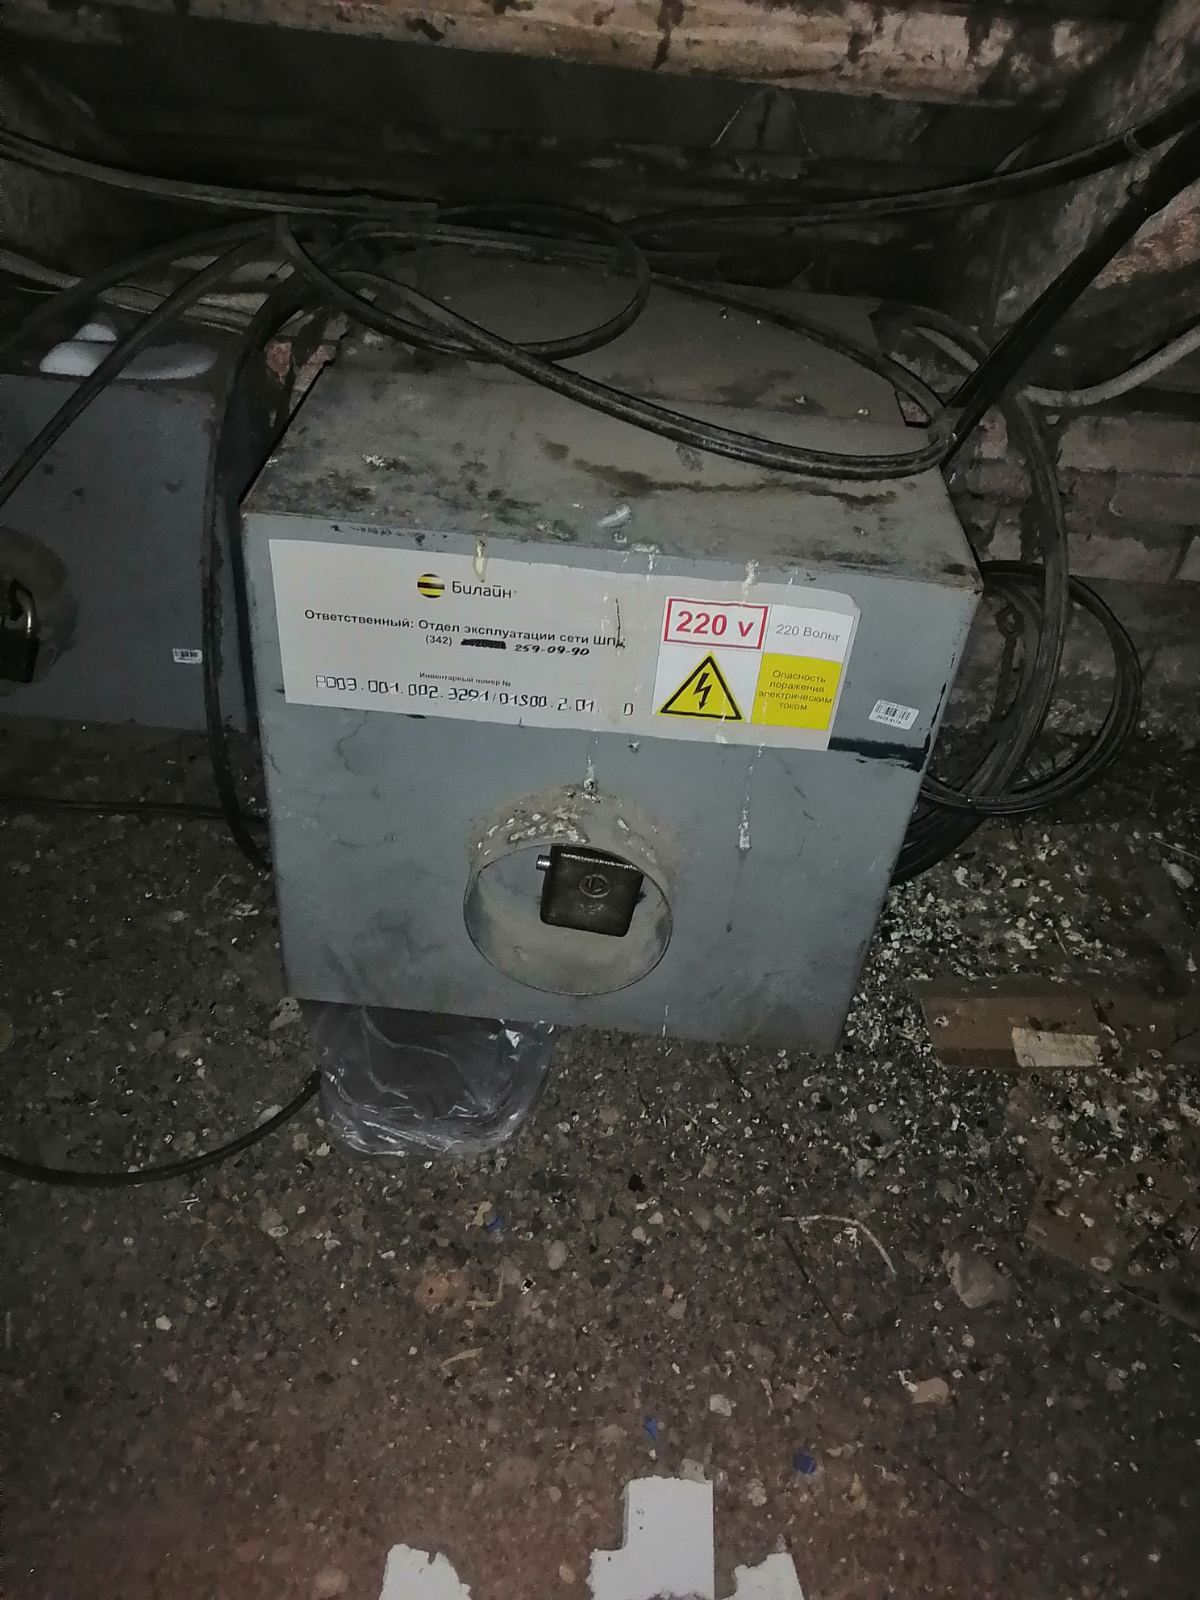shta-9: (205, 214, 1002, 1075)
